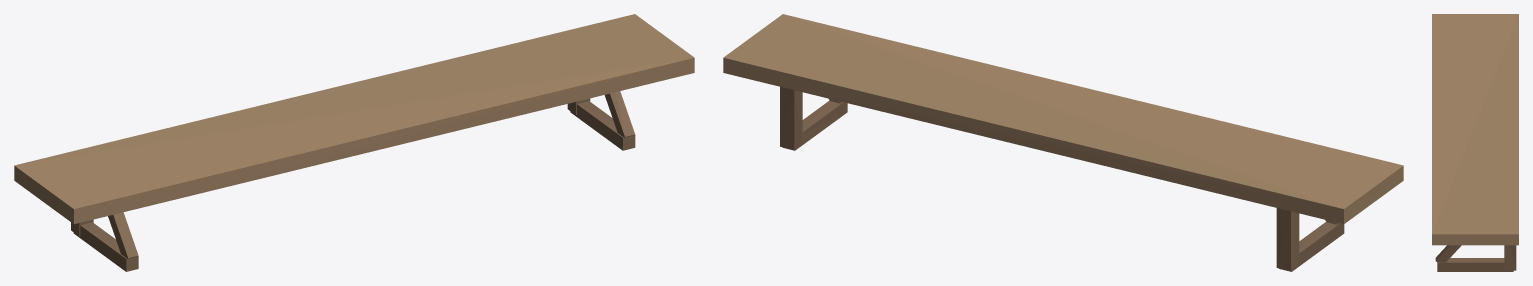
The model's file is shelf.glb.
The picture shows the model from 3 angles, left to right: view 1: azimuth 30°, elevation 25°; view 2: azimuth 150°, elevation 25°; view 3: azimuth 270°, elevation 25°; orthographic projection. The views are drawn at different scales.
Visible parts, largest first — view 1: shelf; view 2: shelf; view 3: shelf.
Part boxes in pixels (x1,y1,x2,y2): shelf: (14, 14, 694, 271); shelf: (723, 14, 1403, 271); shelf: (1432, 14, 1518, 271).
Size of the model in its own units: 3 by 0.365 by 0.5.
